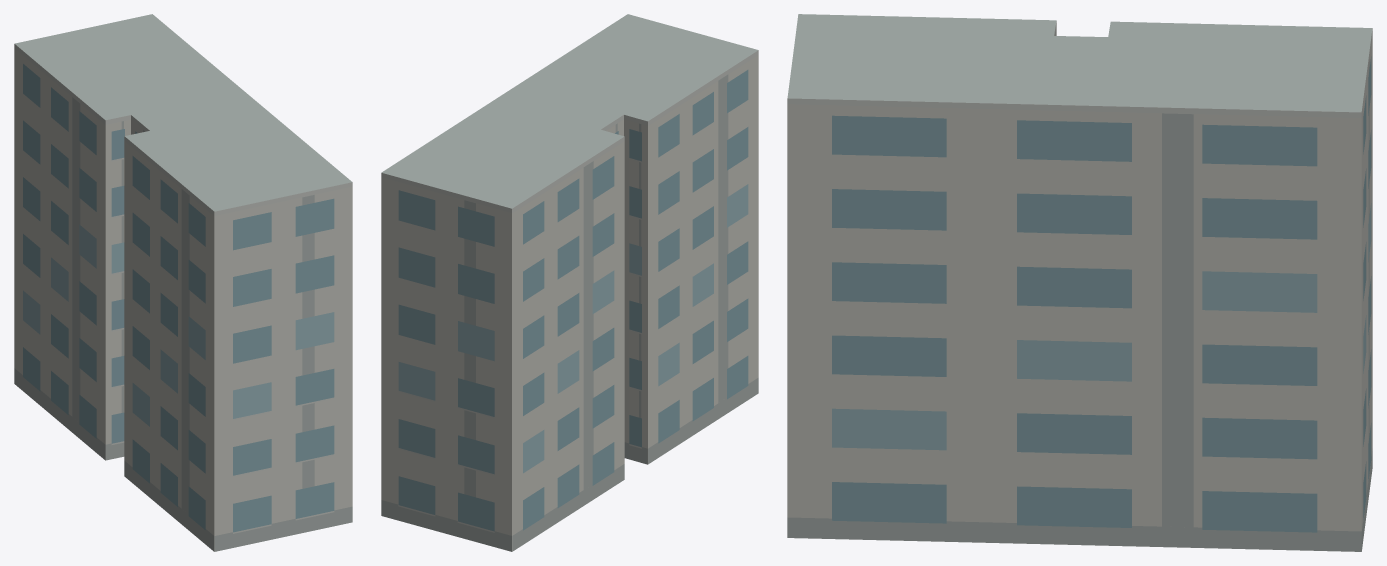
Rendered from survey-upis-32552477.glb.
3 views of the same model, side by side, from view 1: azimuth 30°, elevation 25°; view 2: azimuth 150°, elevation 25°; view 3: azimuth 270°, elevation 25° (orthographic). The views are drawn at different scales.
Visible parts, largest first — view 1: survey-upis-32552477.tmp; view 2: survey-upis-32552477.tmp; view 3: survey-upis-32552477.tmp.
Part boxes in pixels (x1,y1,x2,y2): survey-upis-32552477.tmp: (14, 14, 352, 551); survey-upis-32552477.tmp: (381, 14, 758, 551); survey-upis-32552477.tmp: (787, 14, 1372, 551).
Bounding box in the file's own units: 8.8 × 18.3 × 22.09.
